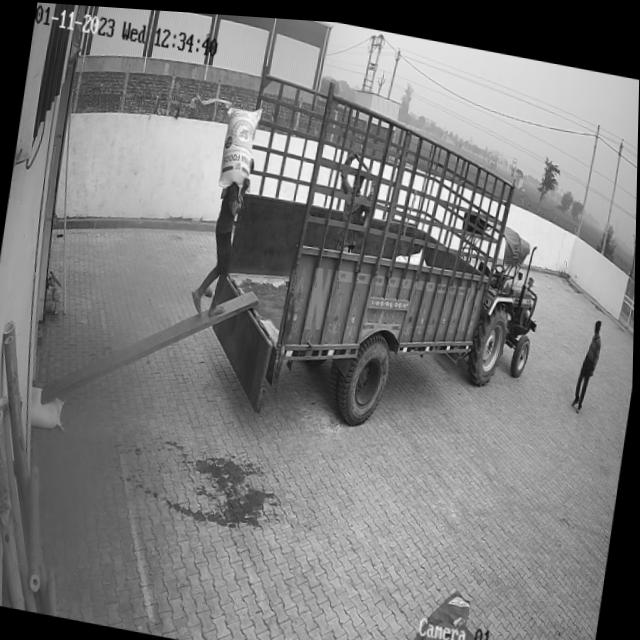sack: (216, 98, 263, 193), (29, 385, 67, 430)
